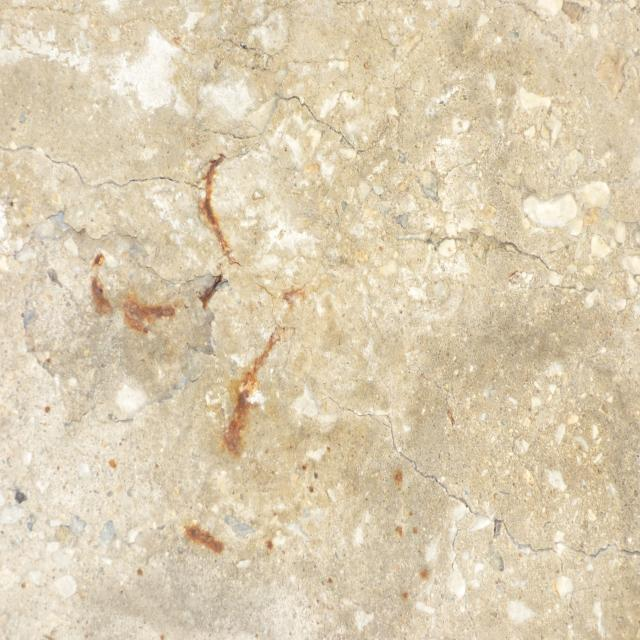corrosion: (58, 132, 467, 615)
